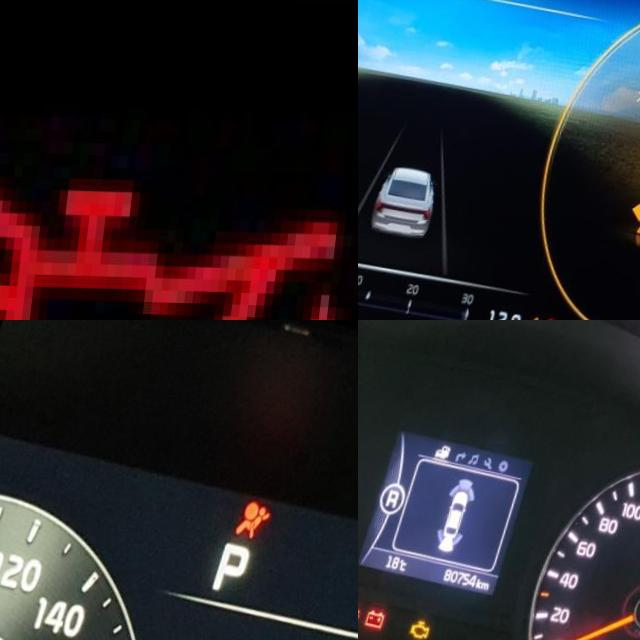Central Warning lamp: (533, 312, 557, 320)
